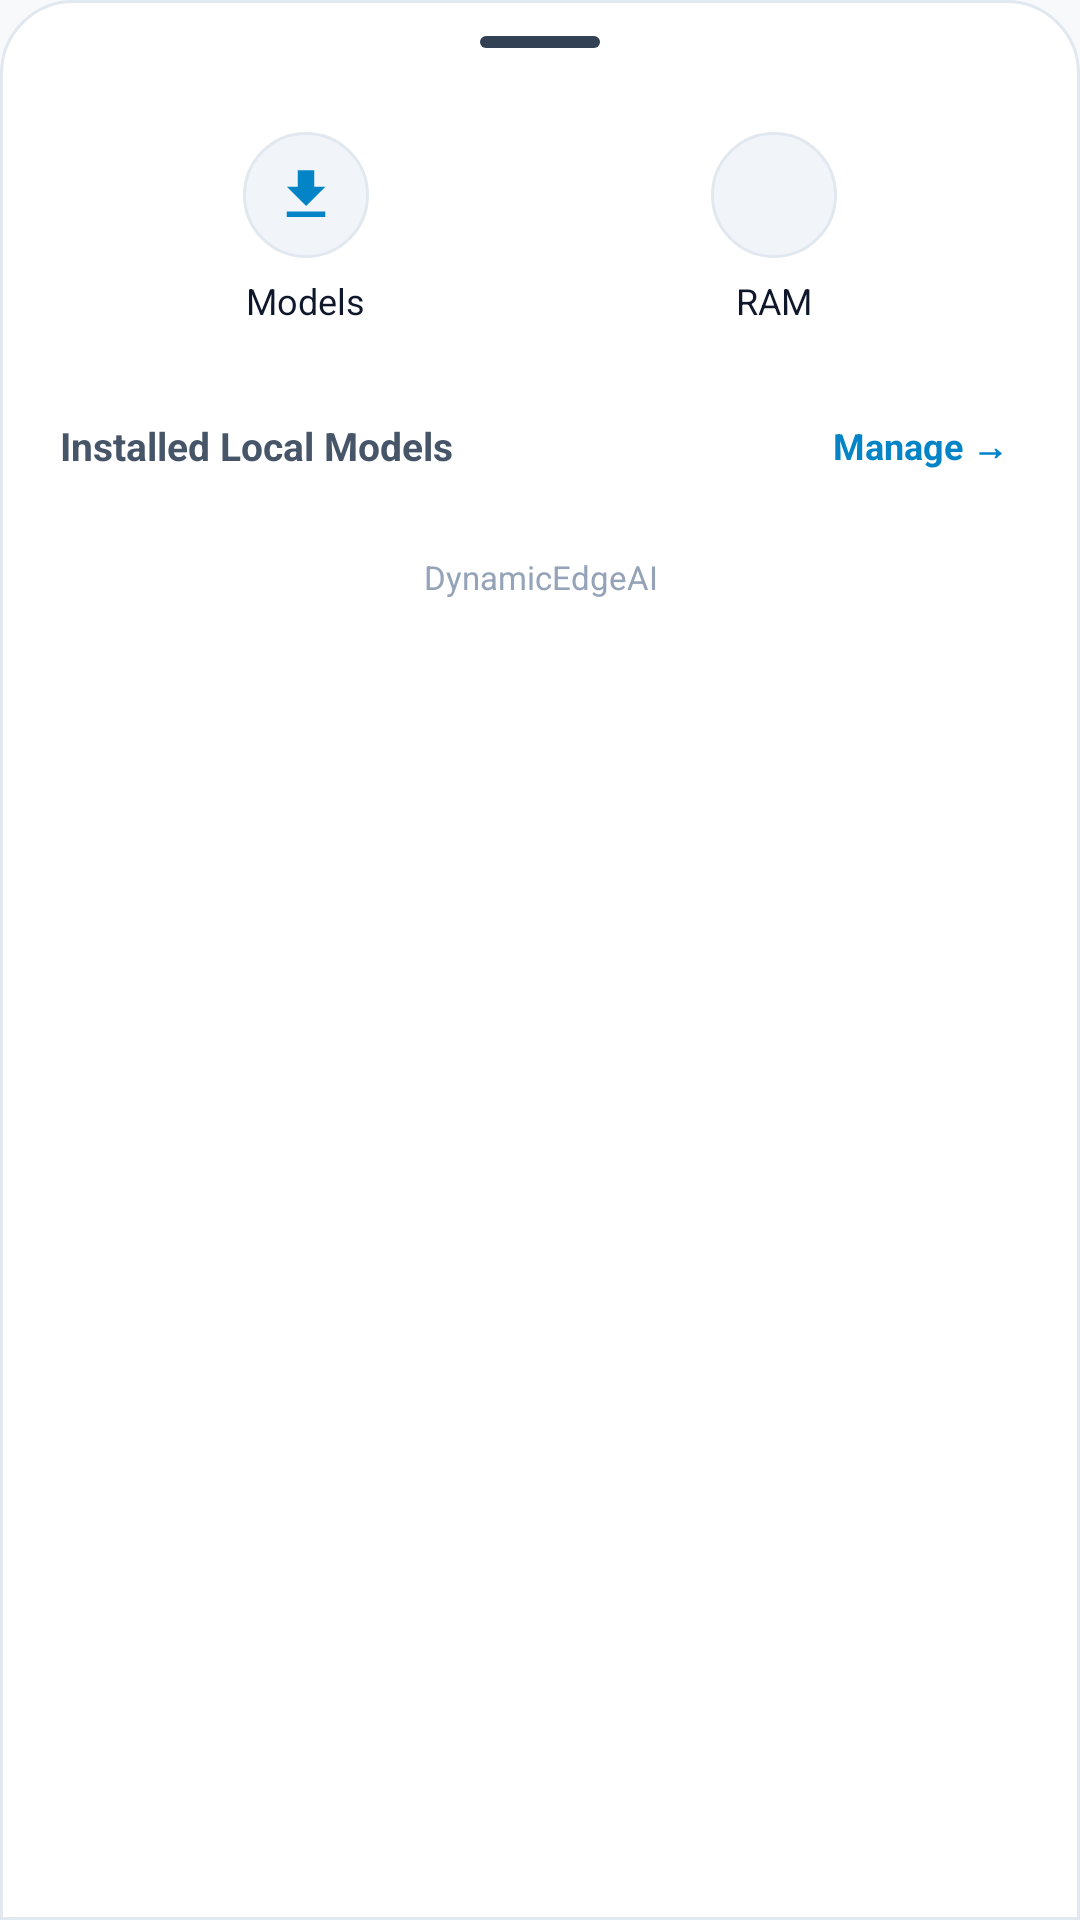

Locate icon controls on the screen. Image size 1080 x 1920, boxes as (x1, y1, x2, y2).
download: (243, 132, 369, 258)
